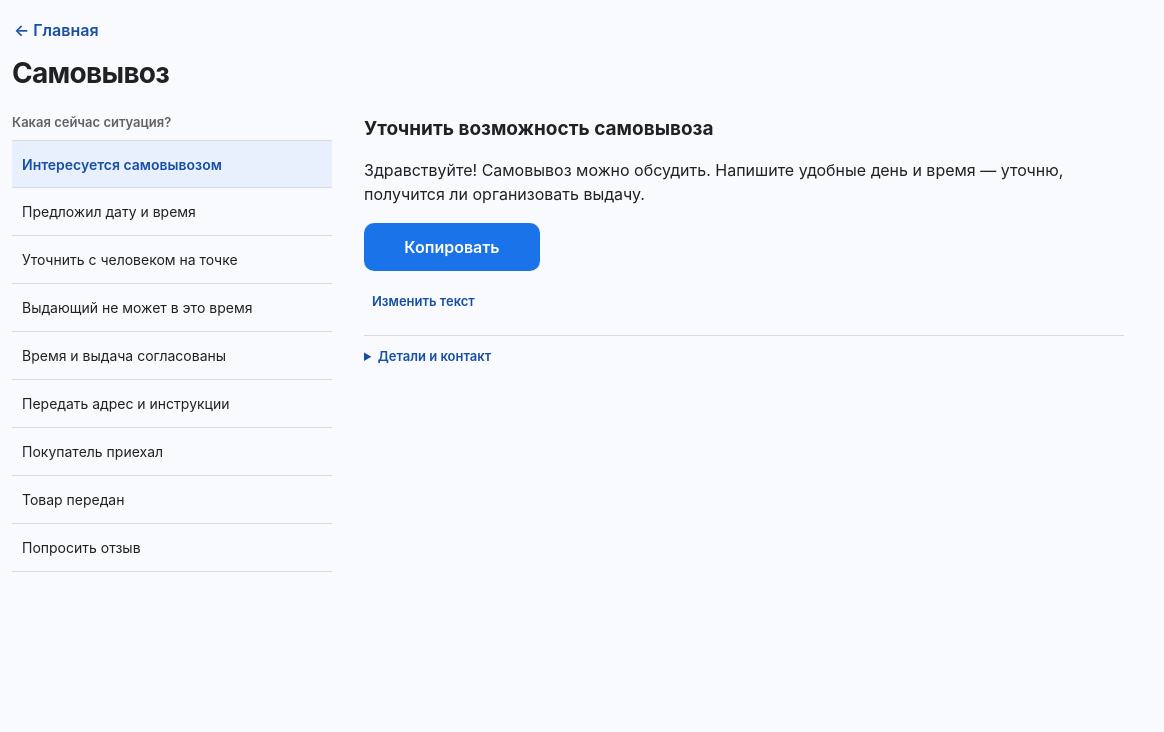
Test: scenario workspace › keeps every pickup situation independently selectable and uses a neutral agreement reply
Click the button "Время и выдача согласованы". click: (172, 356)
box: [12, 332, 332, 380]
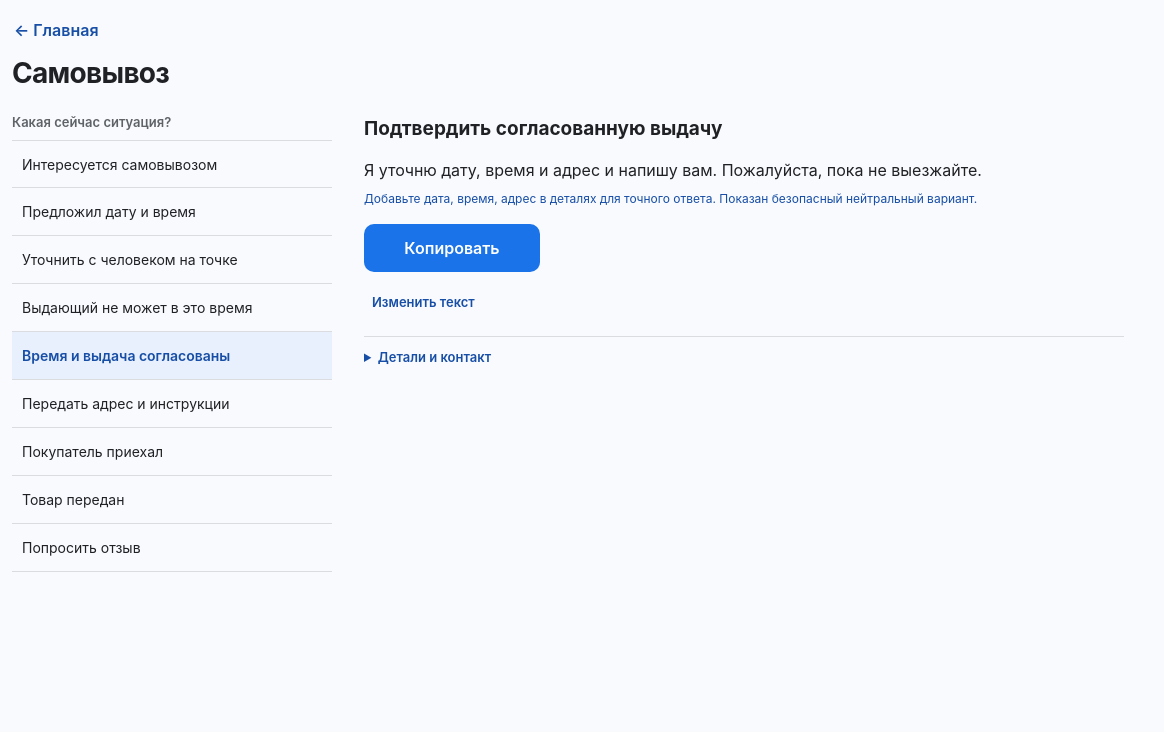
Expected: the button "Копировать" is enabled, [364, 224, 540, 272]
Result: the text named "Текст сообщения" shows "уточню дату, время и адрес" at [364, 160, 982, 180]
